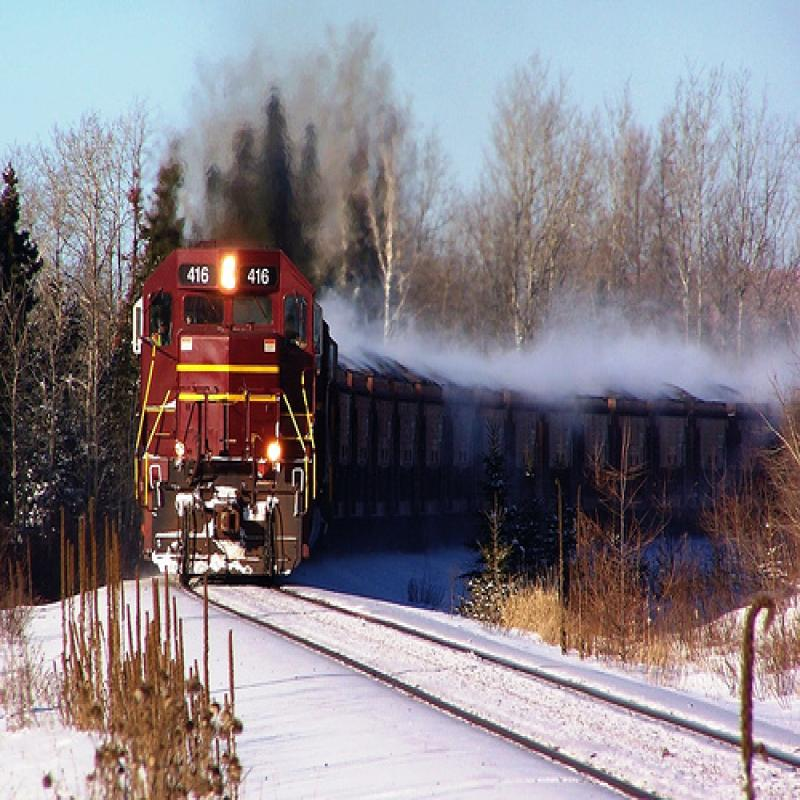train: (126, 233, 799, 590)
